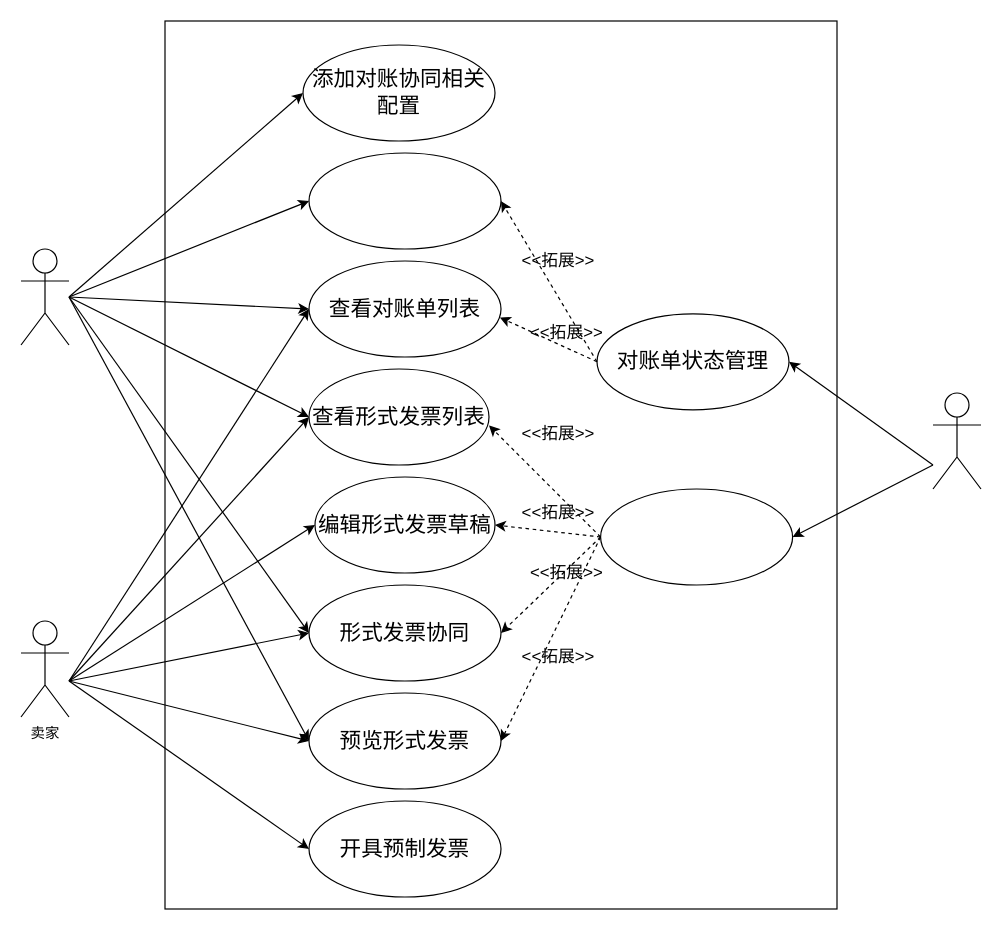
Image size: 1002x930. Some labels were removed from this diagram. The centre of each missing label's shape, as x and y in pixels:
上传对账单: (404,200)
买家: (44,296)
形式发票状态管理: (696,536)
管理员: (956,440)
